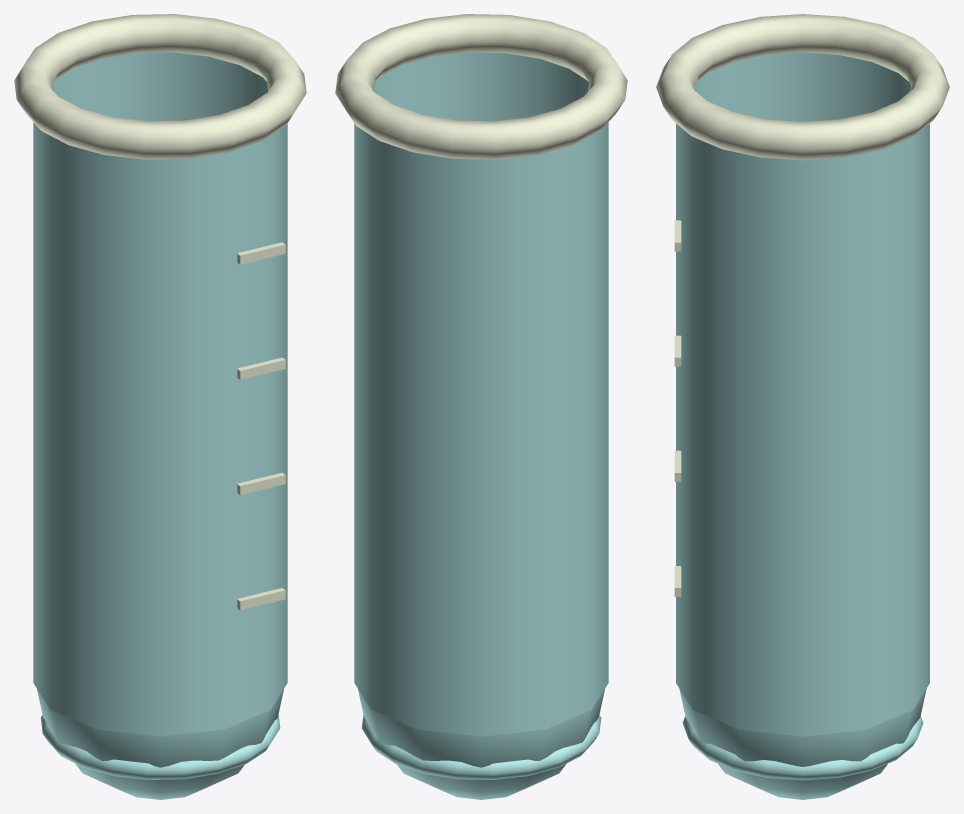
The picture shows the model from 3 angles, left to right: view 1: azimuth 30°, elevation 25°; view 2: azimuth 150°, elevation 25°; view 3: azimuth 270°, elevation 25°; orthographic projection.
Visible parts, largest first — view 1: glass-wall, rim, glass-bottom, foot, measure-0, measure-2, measure-3, measure-1; view 2: glass-wall, rim, glass-bottom, foot; view 3: glass-wall, rim, glass-bottom, foot.
Boxes of the visible parts, box(x1,y1,x2,y2) form: glass-wall: box(33, 52, 287, 736); rim: box(14, 14, 306, 159); glass-bottom: box(37, 689, 283, 799); foot: box(40, 715, 280, 779); measure-0: box(237, 588, 285, 610); measure-2: box(237, 357, 285, 379); measure-3: box(237, 242, 285, 264); measure-1: box(237, 472, 285, 494); glass-wall: box(354, 52, 608, 736); rim: box(335, 14, 627, 159); glass-bottom: box(358, 689, 604, 799); foot: box(361, 715, 601, 779); glass-wall: box(676, 52, 929, 736); rim: box(656, 14, 949, 160); glass-bottom: box(679, 689, 926, 799); foot: box(682, 716, 923, 780).
Bounding box in the file's own units: 0.532 × 1.43 × 0.532.
